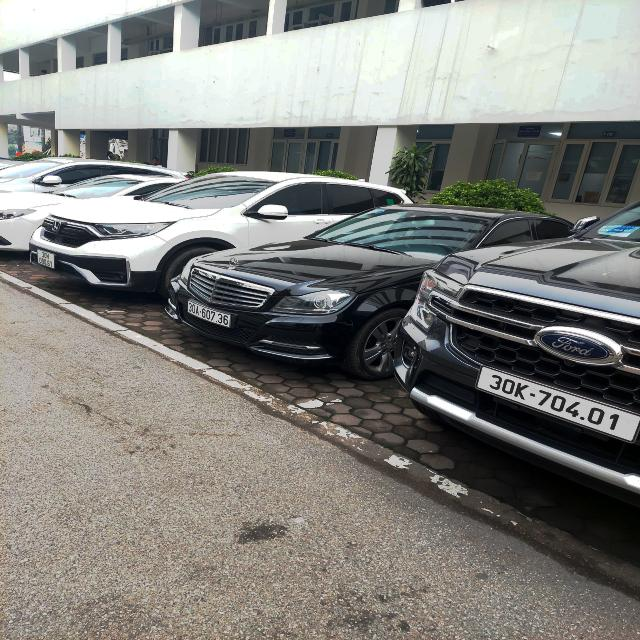license_plate: (477, 366, 640, 445), (188, 301, 231, 329), (38, 249, 55, 270)
